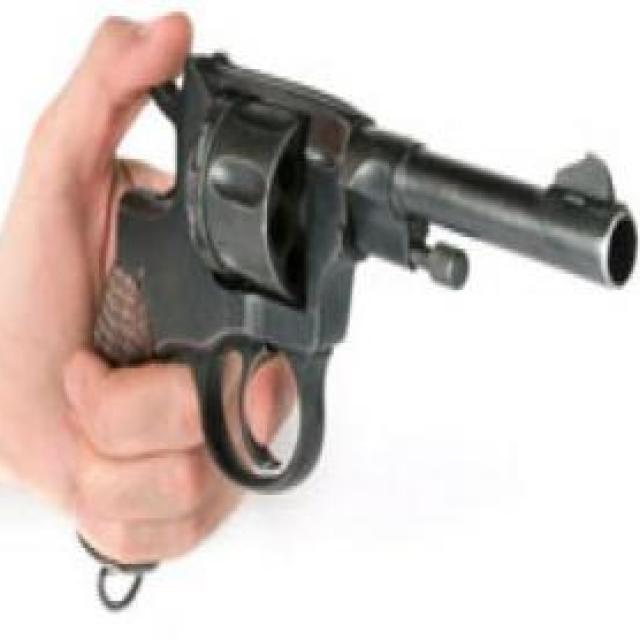pistol: (62, 46, 640, 612)
